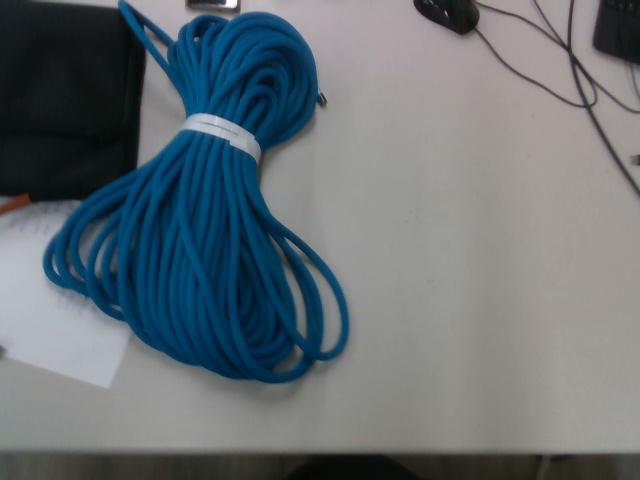rope: (43, 1, 353, 386)
